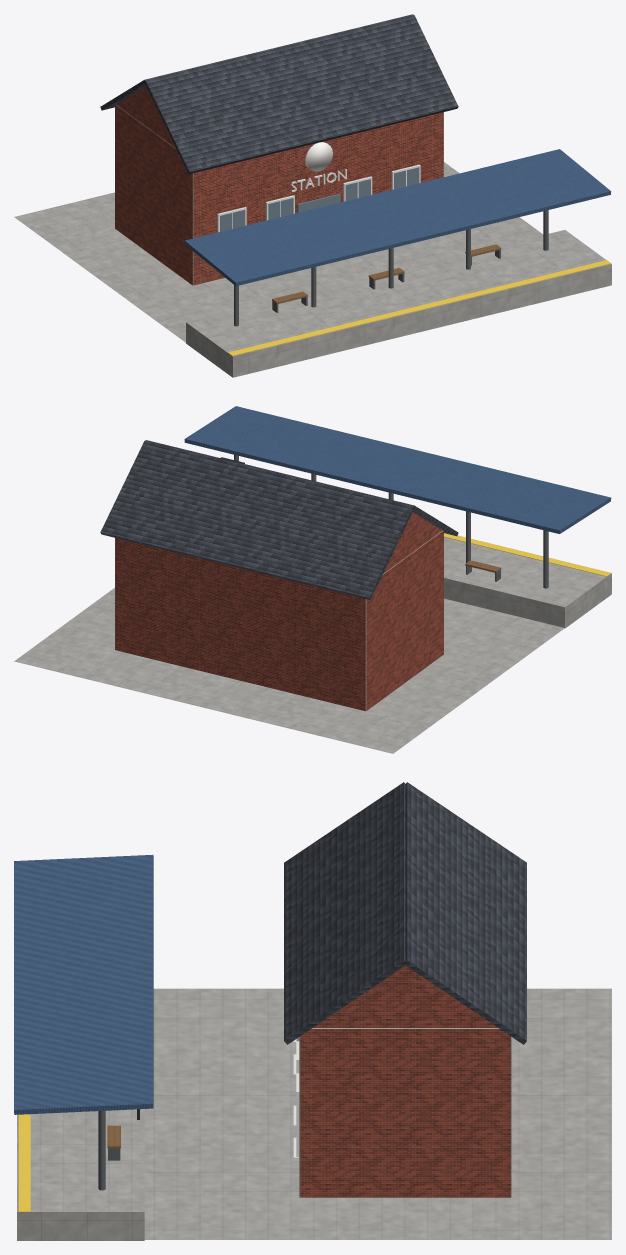
Rendered from station.gltf.
3 views of the same model, one above another, from view 1: azimuth 30°, elevation 25°; view 2: azimuth 150°, elevation 25°; view 3: azimuth 270°, elevation 25° (orthographic). The views are drawn at different scales.
Visible parts, largest first — view 1: station; view 2: station; view 3: station.
Boxes of the visible parts, x1,y1,x2,y2 form: station: [14, 14, 611, 377]; station: [14, 406, 611, 753]; station: [14, 782, 611, 1240].
Bounding box in the file's own units: 3.92 × 1.77 × 3.94.
11 materials, 5 textured.
